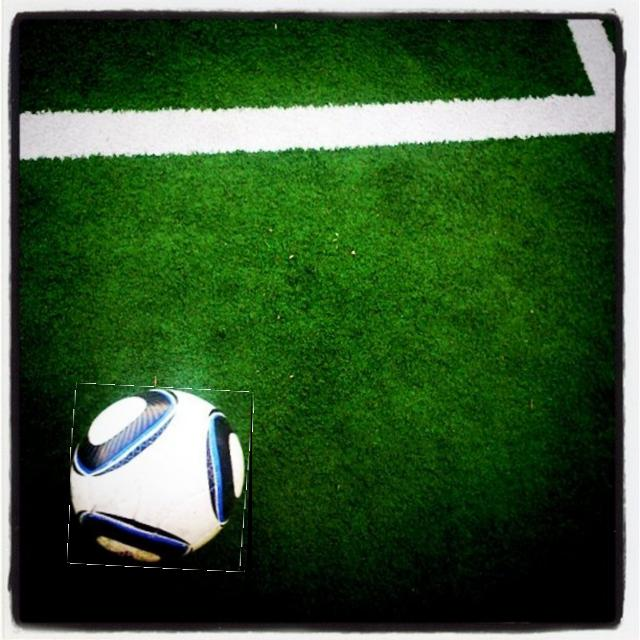Football: (70, 386, 252, 570)
